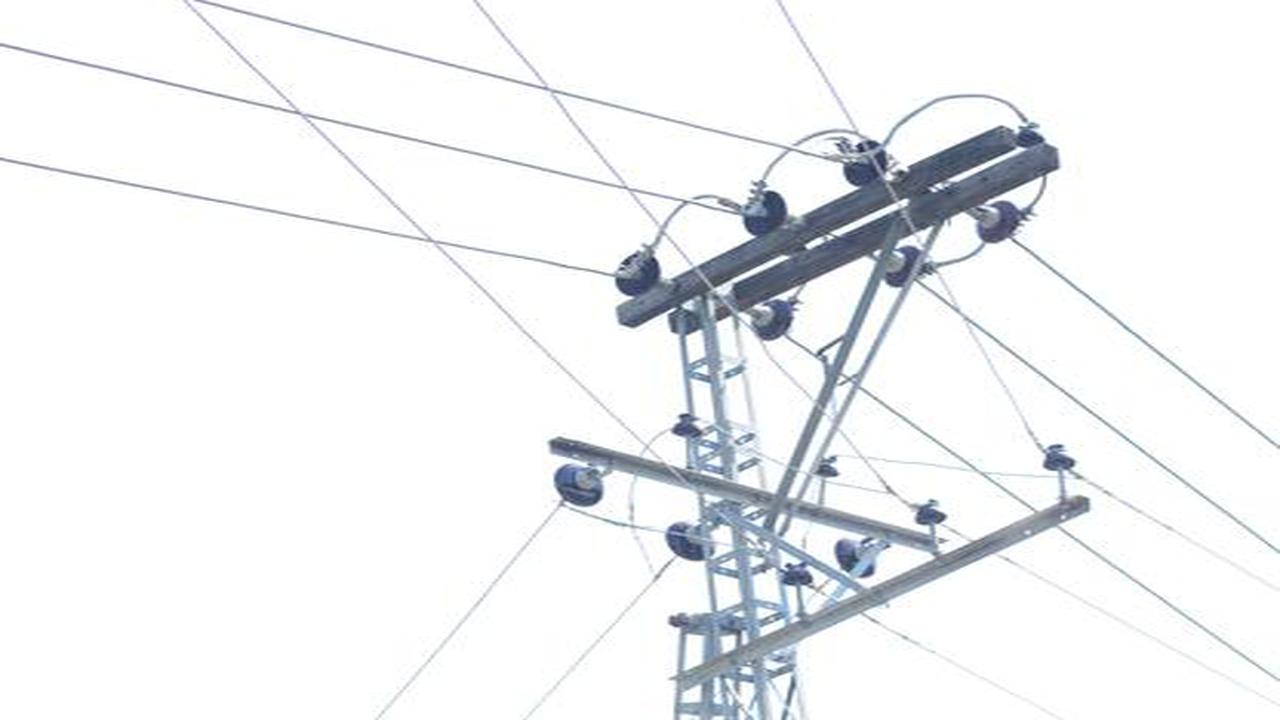insulator_disc: (841, 137, 891, 192), (554, 462, 607, 511), (612, 249, 664, 298), (741, 190, 791, 238), (880, 243, 928, 289), (665, 519, 717, 561), (972, 202, 1021, 245), (833, 538, 881, 580), (747, 303, 794, 345)
insulator_pin: (1038, 440, 1080, 476), (910, 495, 950, 531), (672, 410, 706, 444), (781, 560, 819, 589), (1014, 120, 1050, 149), (819, 454, 843, 480)
